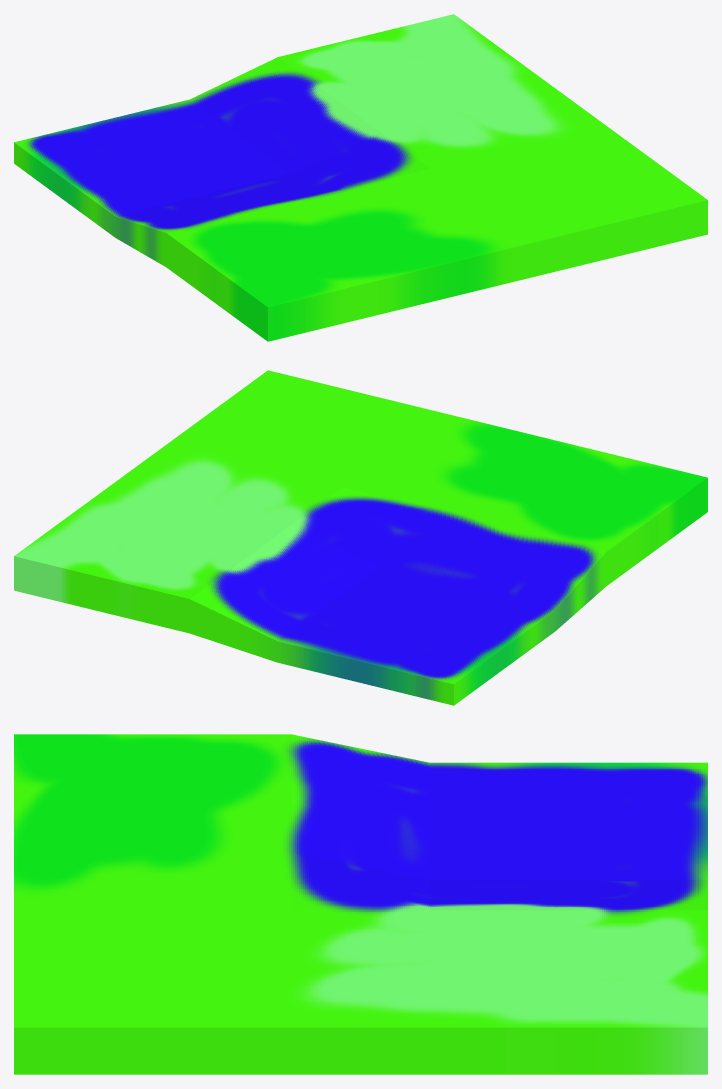
The model's file is ground.glb.
3 views of the same model, one above another, from view 1: azimuth 30°, elevation 25°; view 2: azimuth 150°, elevation 25°; view 3: azimuth 270°, elevation 25° (orthographic). The views are drawn at different scales.
Visible parts, largest first — view 1: Plane; view 2: Plane; view 3: Plane.
Boxes of the visible parts, x1,y1,x2,y2 form: Plane: (14,14,707,341); Plane: (14,370,707,705); Plane: (14,734,707,1074).
Bounding box in the file's own units: 7.85 × 0.7186 × 7.85.
Materials: 1 (1 with a texture image).
